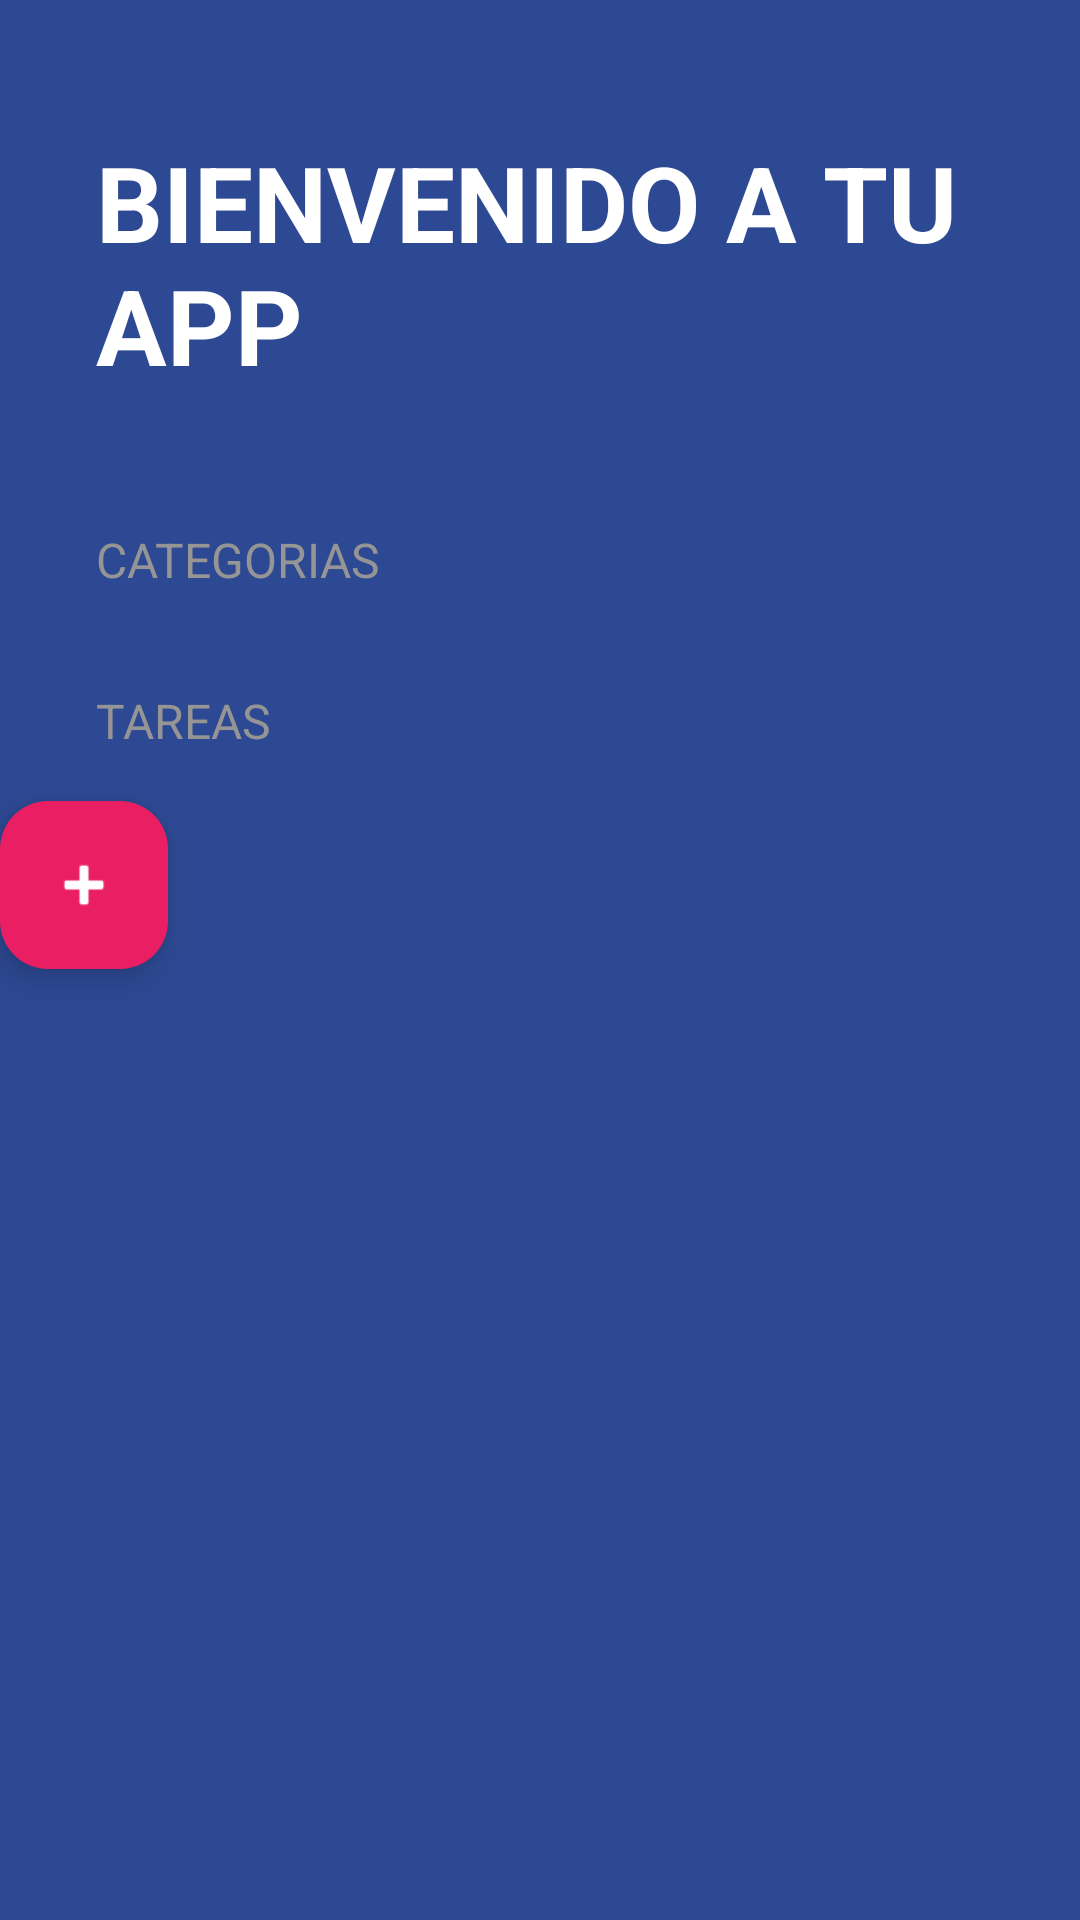

Where to tap for icons on this 1080×1920 app screen, as (x,y):
add: (84,885)
